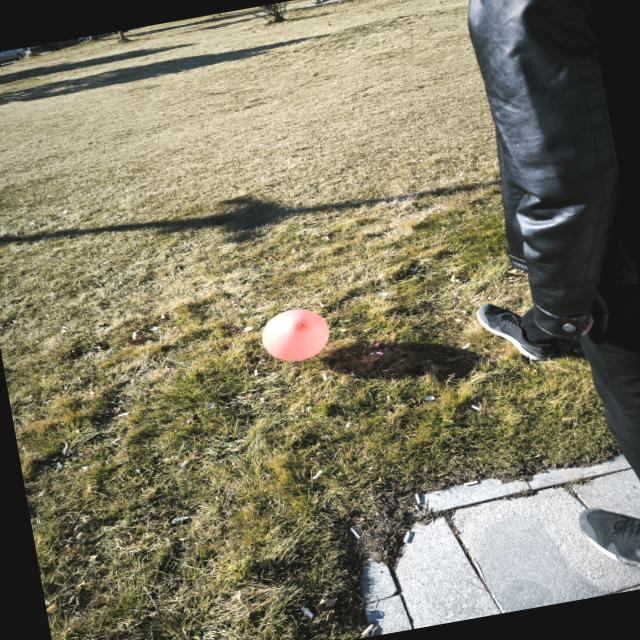balloon: (260, 308, 329, 362)
